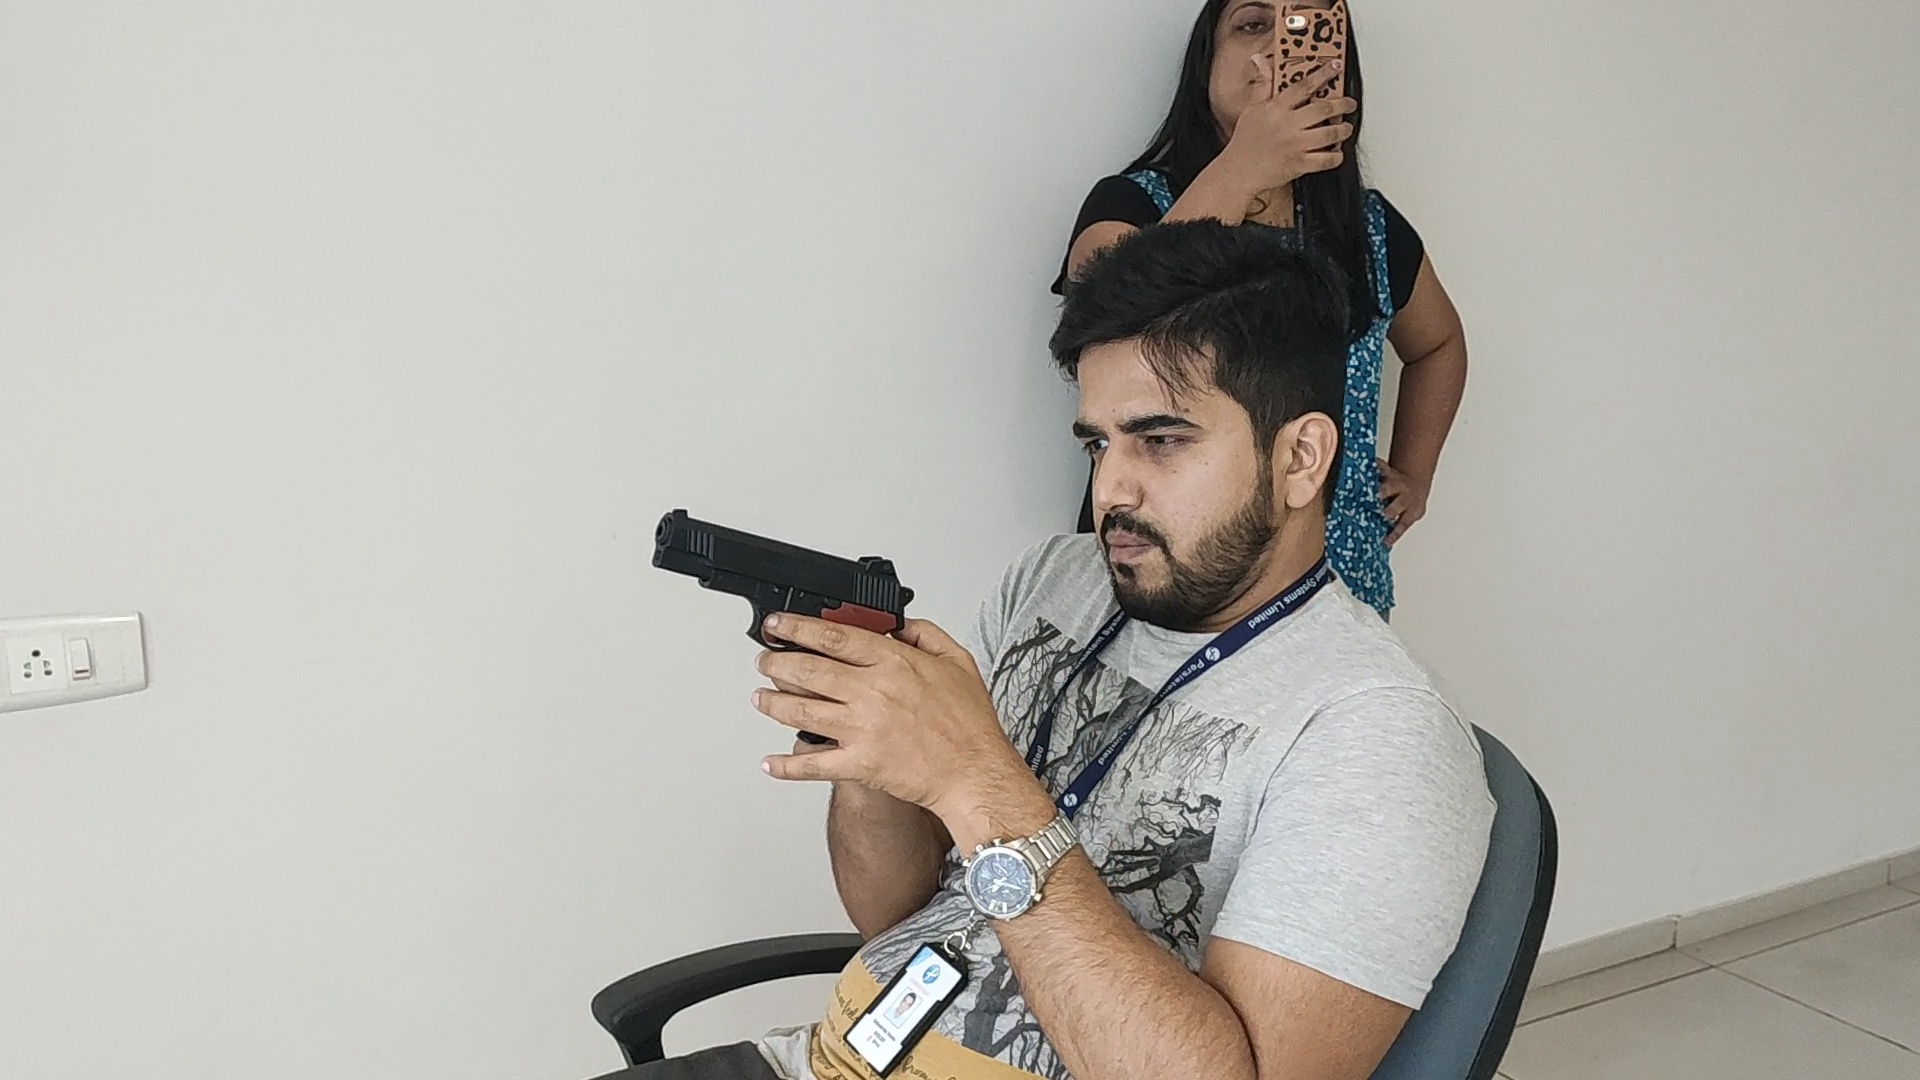gun: (651, 508, 915, 611)
